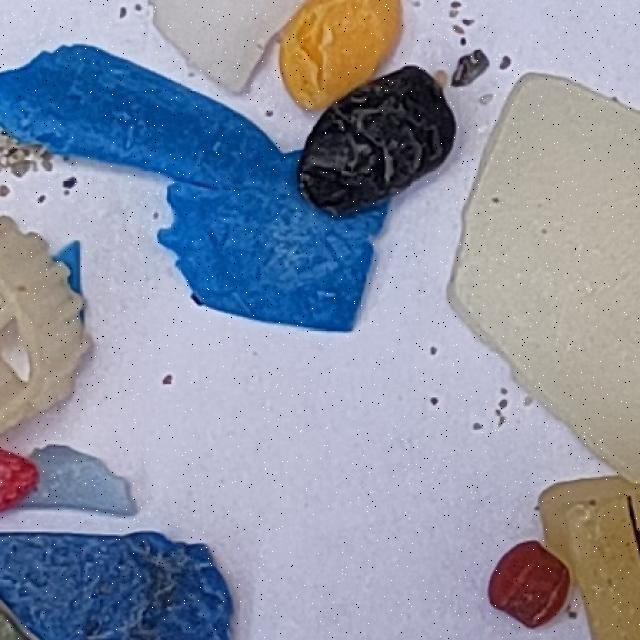beads: (276, 0, 404, 116), (151, 0, 304, 91), (1, 1, 1, 1)
fragments: (446, 71, 640, 489), (0, 24, 315, 218), (267, 49, 479, 241), (148, 179, 387, 338), (0, 531, 233, 640), (534, 476, 640, 640), (16, 446, 134, 513)
